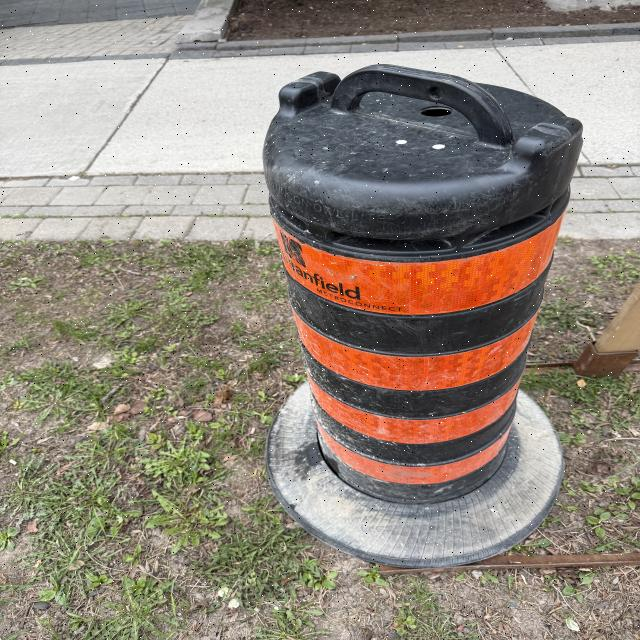Teraffic Barrel: (264, 65, 581, 566)
